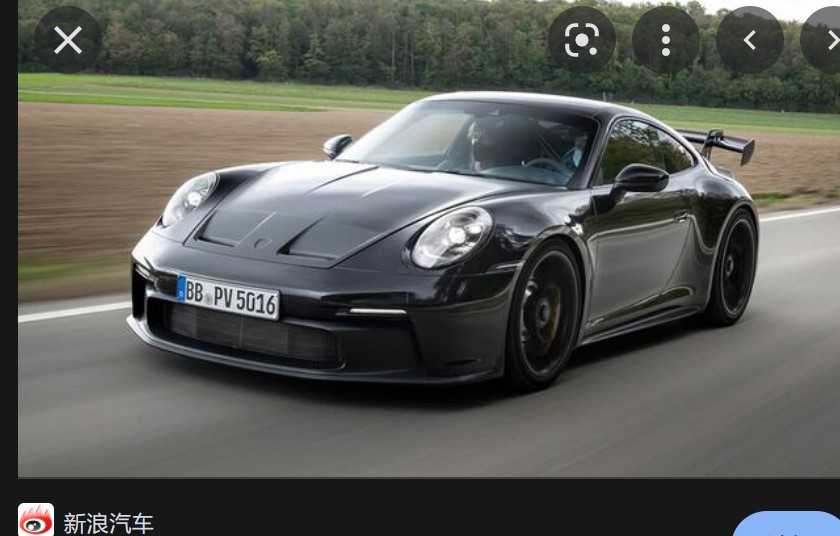car: (124, 86, 761, 389)
